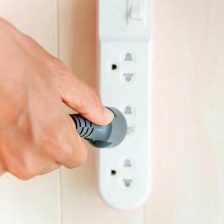three_eye_plug: (91, 0, 157, 216)
